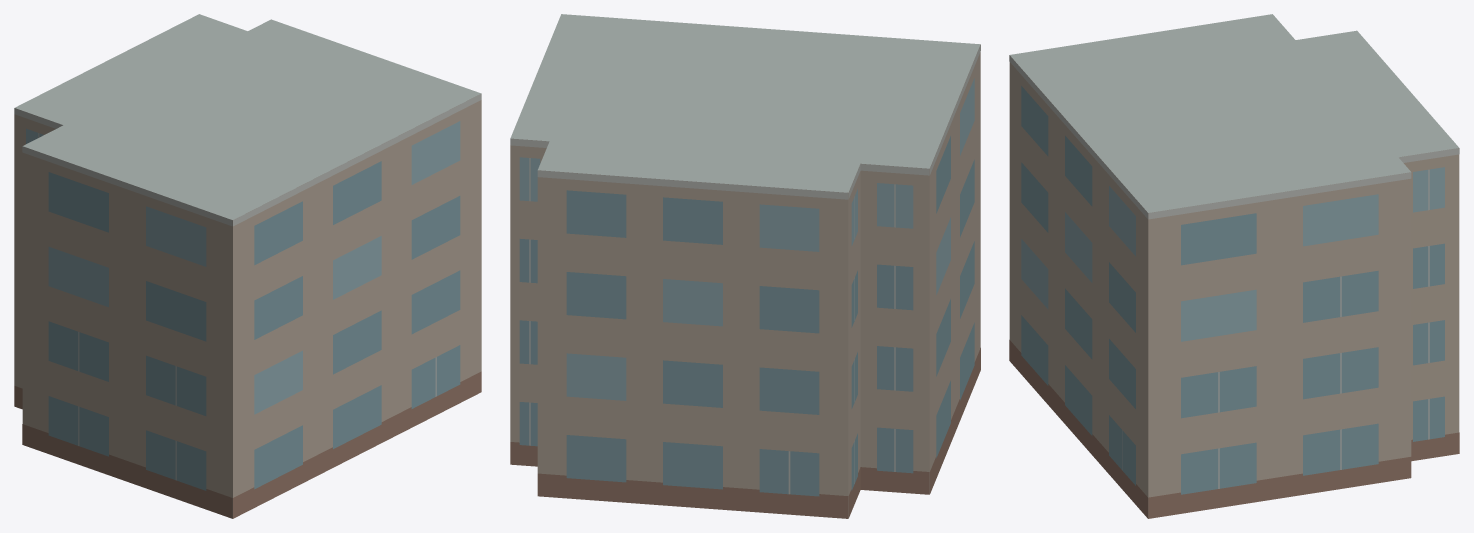
File: survey-upis-32853756.glb
3 renders of one model, left to right at view 1: azimuth 30°, elevation 25°; view 2: azimuth 150°, elevation 25°; view 3: azimuth 270°, elevation 25°, orthographic. The views are drawn at different scales.
Parts seen in each view (by area): view 1: survey-upis-32853756.tmp; view 2: survey-upis-32853756.tmp; view 3: survey-upis-32853756.tmp.
Boxes of the visible parts, x1=… form: survey-upis-32853756.tmp: x1=14, y1=14, x2=481, y2=518; survey-upis-32853756.tmp: x1=510, y1=14, x2=980, y2=518; survey-upis-32853756.tmp: x1=1009, y1=14, x2=1459, y2=518.
Bounding box in the file's own units: 16.06 × 11.5 × 15.34.
